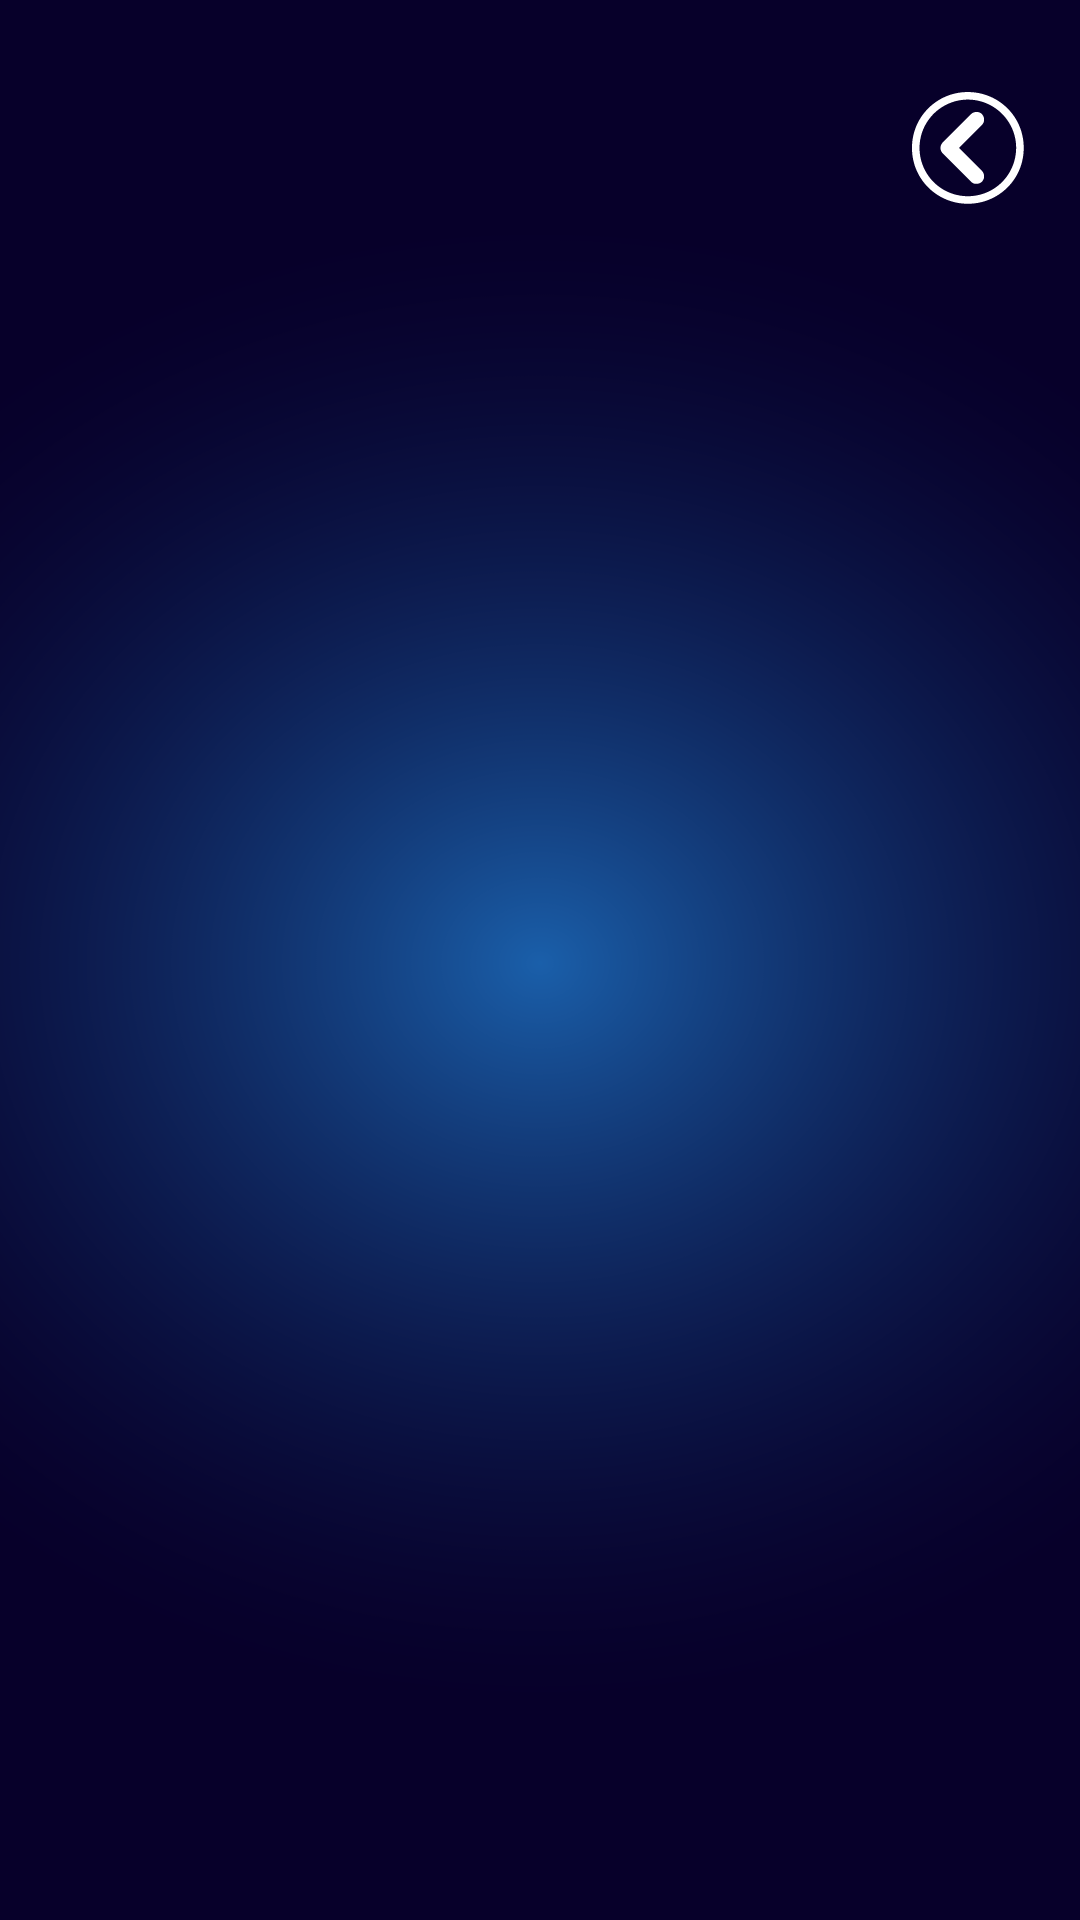

Locate icon controls on the screen. Image size 1080px x 1920px, boxes as (x1=x1, y1=y1, x2=x2, y2=y2).
btnback: (x1=912, y1=92, x2=1024, y2=204)
